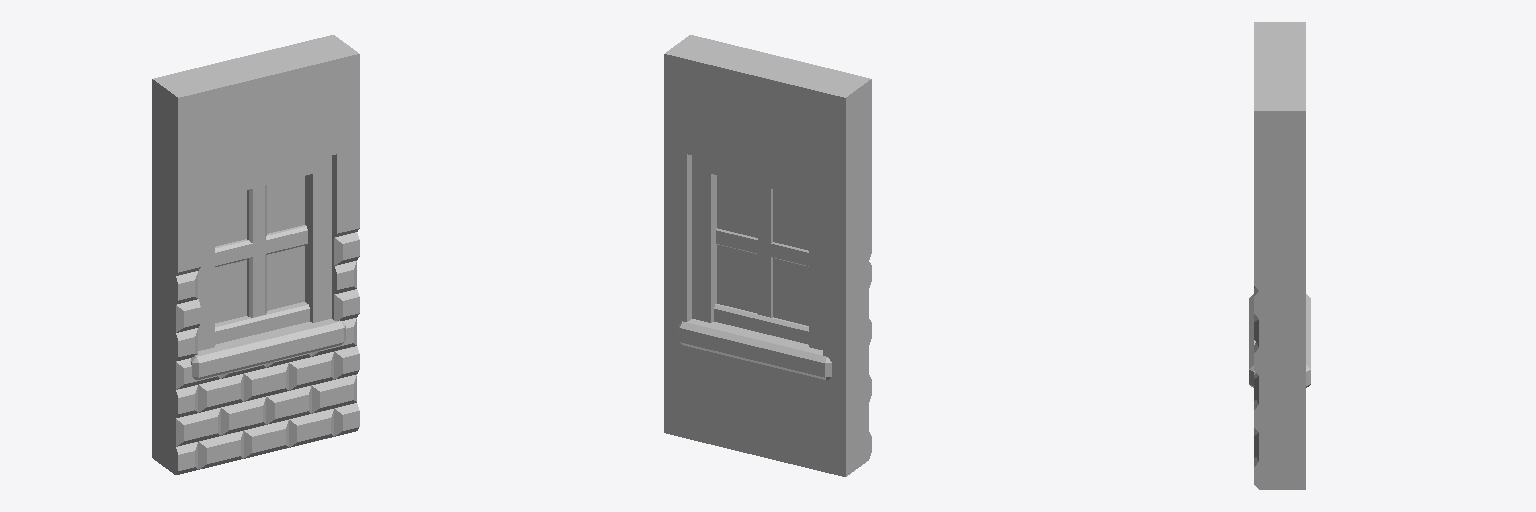
The model's file is wall_tiles_kitchen_window_small.obj.
The picture shows the model from 3 angles: view 1: azimuth 30°, elevation 25°; view 2: azimuth 150°, elevation 25°; view 3: azimuth 270°, elevation 25°; orthographic projection.
Visible parts, largest first — view 1: wall_tiles_kitchen_window_small; view 2: wall_tiles_kitchen_window_small; view 3: wall_tiles_kitchen_window_small.
Boxes of the visible parts, x1,y1,x2,y2 form: wall_tiles_kitchen_window_small: [152, 35, 359, 474]; wall_tiles_kitchen_window_small: [664, 35, 871, 476]; wall_tiles_kitchen_window_small: [1249, 22, 1310, 489].
Size of the model in its own units: 2 by 4 by 0.6.